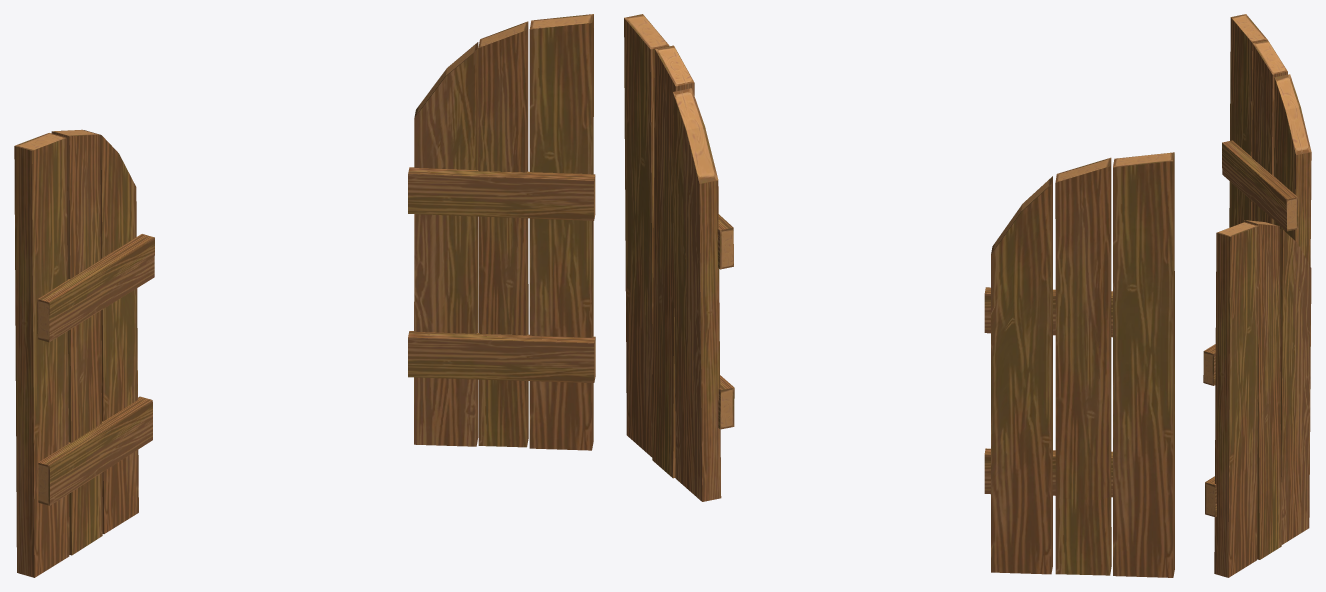
Rendered from WindowShutters_Wide_Round_Open.glb.
The picture shows the model from 3 angles, left to right: view 1: azimuth 30°, elevation 25°; view 2: azimuth 150°, elevation 25°; view 3: azimuth 270°, elevation 25°; orthographic projection. The views are drawn at different scales.
Visible parts, largest first — view 1: WindowShutters_Wide_Round_Open; view 2: WindowShutters_Wide_Round_Open; view 3: WindowShutters_Wide_Round_Open.
Part boxes in pixels (x1=…): WindowShutters_Wide_Round_Open: x1=14, y1=14, x2=595, y2=577; WindowShutters_Wide_Round_Open: x1=624, y1=14, x2=1174, y2=577; WindowShutters_Wide_Round_Open: x1=1203, y1=14, x2=1311, y2=577.
Bounding box in the file's own units: 2.3 × 1.65 × 0.4724.
1 material, 1 textured.
